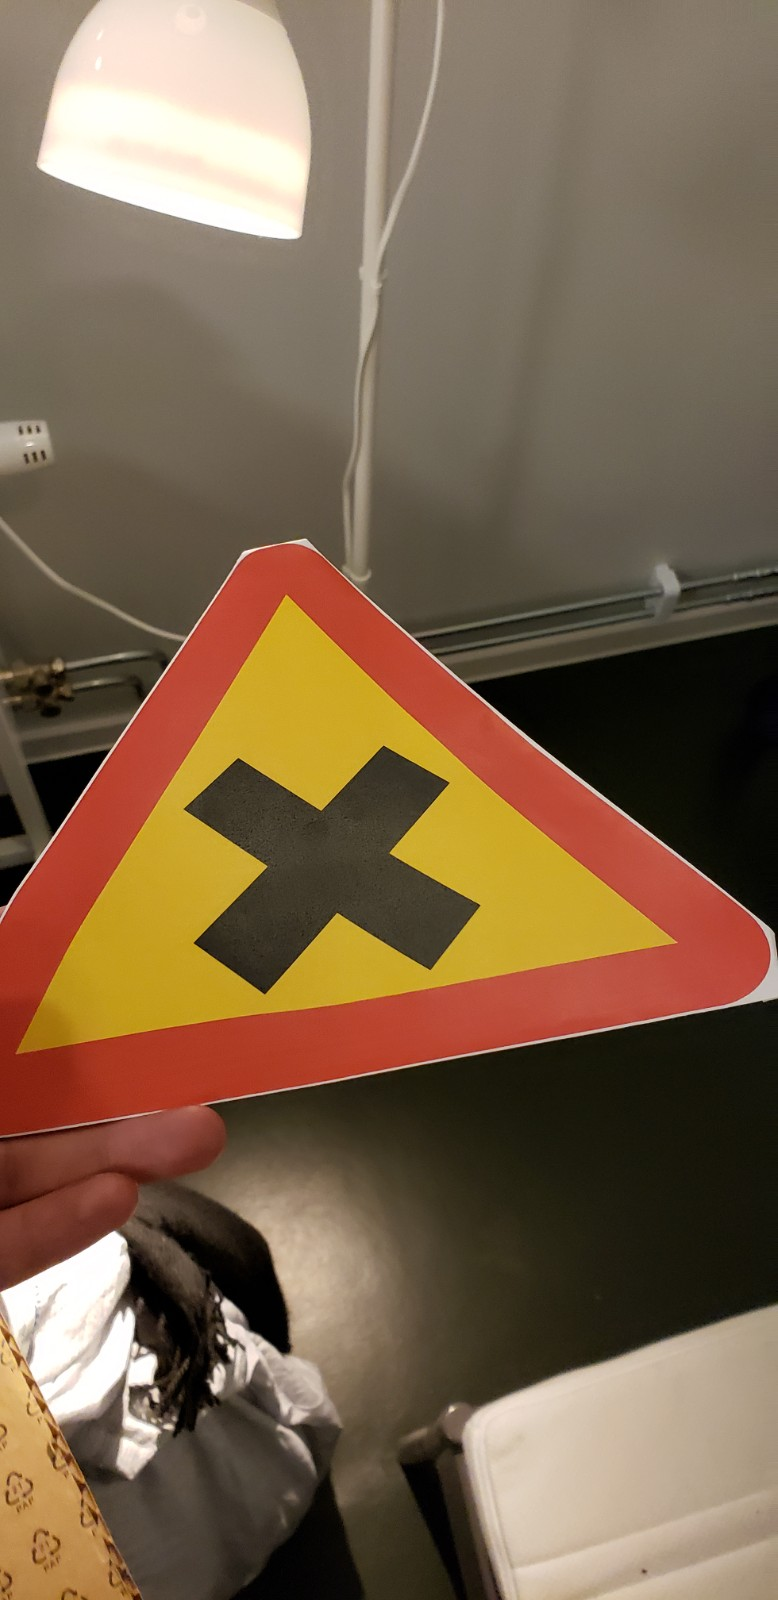junction: (32, 536, 778, 1159)
